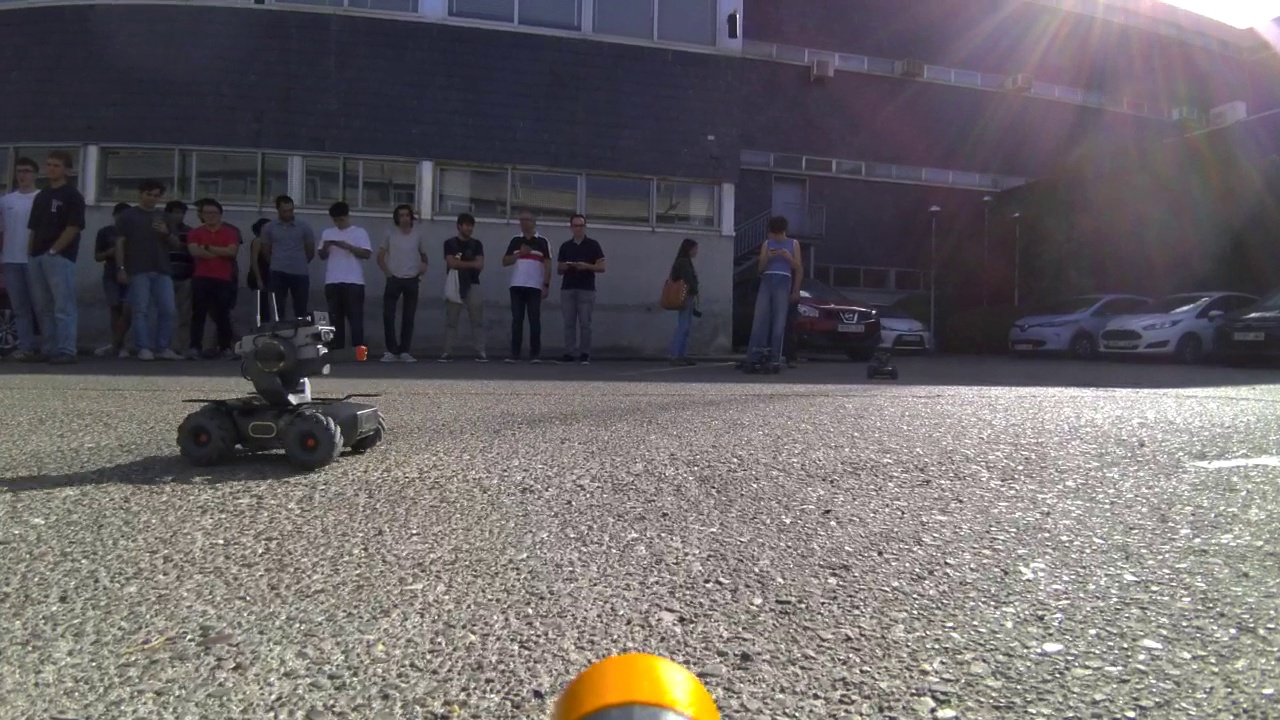robot: (174, 290, 387, 477), (863, 343, 901, 383)
